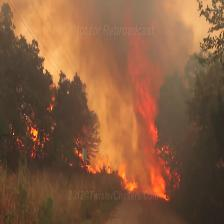fire: (8, 83, 196, 201), (121, 31, 193, 196)
smoke: (16, 3, 203, 79)
